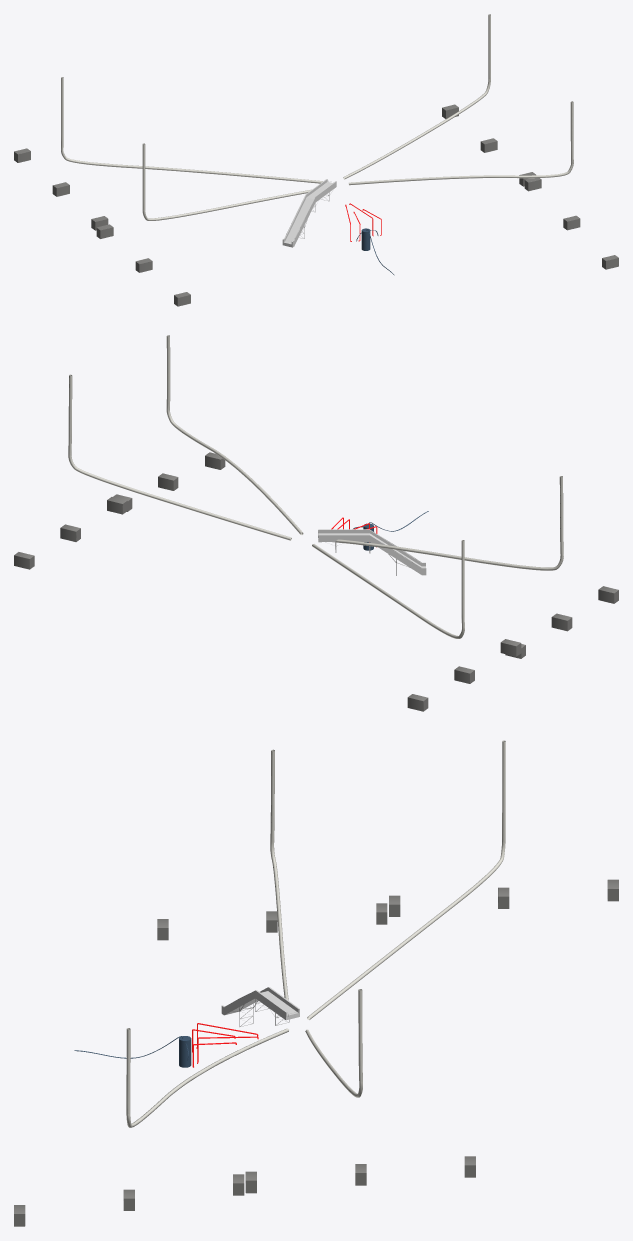
File: STEMP_Station_3.glb
3 renders of one model, top to bottom at view 1: azimuth 30°, elevation 25°; view 2: azimuth 150°, elevation 25°; view 3: azimuth 270°, elevation 25°, orthographic. The views are drawn at different scales.
Parts seen in each view (by area): view 1: Mirror_Bases_3, Pipes-Mirrors-to-Tank-Insulation_3W.001, Pipes-Mirrors-to-Tank-Insulation_3E, Pipes-Mirrors-to-Tank-Insulation_3W, Gangway-colonly.002, Pipes-Mirrors-to-Tank-Insulation_3E.001; view 2: Mirror_Bases_3, Pipes-Mirrors-to-Tank-Insulation_3E.001, Pipes-Mirrors-to-Tank-Insulation_3W, Pipes-Mirrors-to-Tank-Insulation_3W.001, Pipes-Mirrors-to-Tank-Insulation_3E, Gangway-colonly.002; view 3: Mirror_Bases_3, Pipes-Mirrors-to-Tank-Insulation_3W, Pipes-Mirrors-to-Tank-Insulation_3E.001, Pipes-Mirrors-to-Tank-Insulation_3W.001, Pipes-Mirrors-to-Tank-Insulation_3E, Gangway-colonly.002.
Boxes of the visible parts, left/top/right/bottom form: Mirror_Bases_3: left=14, top=104, right=618, bottom=306; Pipes-Mirrors-to-Tank-Insulation_3W.001: left=61, top=80, right=322, bottom=220; Pipes-Mirrors-to-Tank-Insulation_3E: left=344, top=20, right=573, bottom=184; Pipes-Mirrors-to-Tank-Insulation_3W: left=61, top=77, right=322, bottom=220; Gangway-colonly.002: left=282, top=179, right=336, bottom=247; Pipes-Mirrors-to-Tank-Insulation_3E.001: left=343, top=14, right=573, bottom=185; Mirror_Bases_3: left=14, top=452, right=618, bottom=711; Pipes-Mirrors-to-Tank-Insulation_3E.001: left=68, top=335, right=303, bottom=539; Pipes-Mirrors-to-Tank-Insulation_3W: left=312, top=476, right=563, bottom=638; Pipes-Mirrors-to-Tank-Insulation_3W.001: left=312, top=476, right=563, bottom=638; Pipes-Mirrors-to-Tank-Insulation_3E: left=68, top=335, right=302, bottom=540; Gangway-colonly.002: left=318, top=529, right=426, bottom=575; Mirror_Bases_3: left=14, top=879, right=618, bottom=1226; Pipes-Mirrors-to-Tank-Insulation_3W: left=270, top=744, right=505, bottom=1019; Pipes-Mirrors-to-Tank-Insulation_3E.001: left=126, top=989, right=362, bottom=1127; Pipes-Mirrors-to-Tank-Insulation_3W.001: left=270, top=740, right=505, bottom=1019; Pipes-Mirrors-to-Tank-Insulation_3E: left=126, top=989, right=362, bottom=1127; Gangway-colonly.002: left=221, top=987, right=299, bottom=1020.
Size of the model in its own units: 131 by 52.24 by 124.
